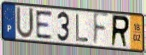3: (56, 11, 71, 43)
E: (34, 10, 54, 40)
F: (92, 12, 110, 48)
L: (75, 13, 90, 43)
R: (110, 14, 131, 49)
U: (15, 5, 35, 41)
